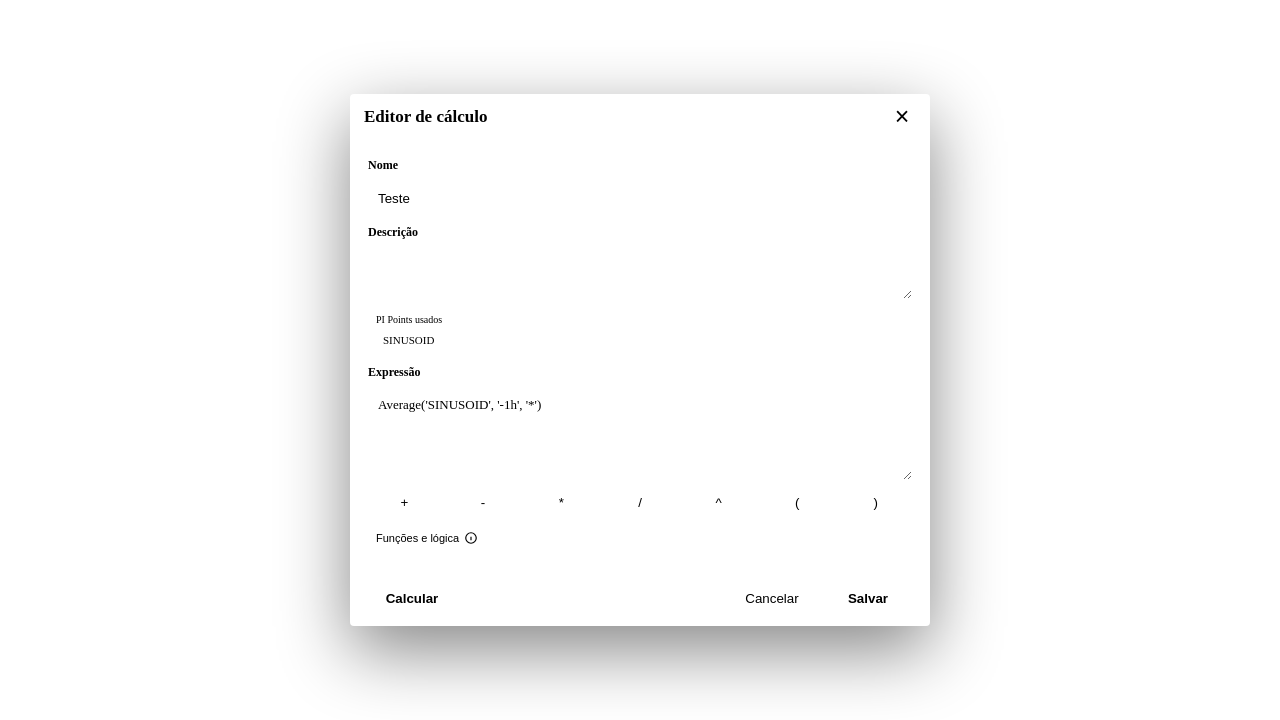
Test: aguarda o histórico e exibe o resultado após um único clique
The width and height of the screenshot is (1280, 720).
Click the button with test id "calculation-editor-execute" at [412, 598], box [368,582,456,614]
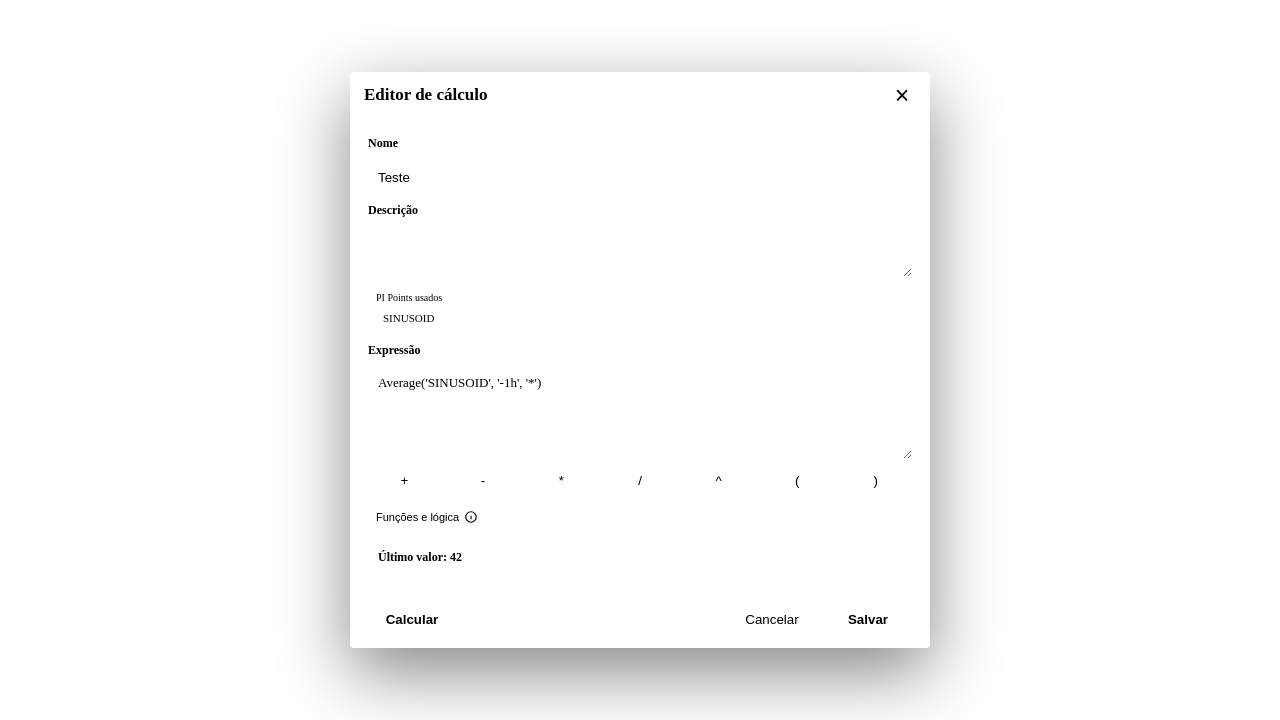
Expected: the button with test id "calculation-editor-execute" is enabled, [368,604,456,636]
Expected: the element with test id "calculation-editor-result" reads "Último valor: 42", [378,550,462,564]
